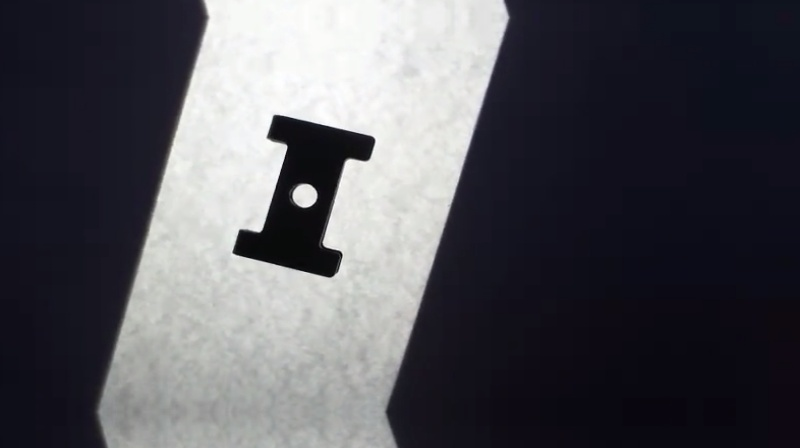O002: (225, 111, 381, 278)
